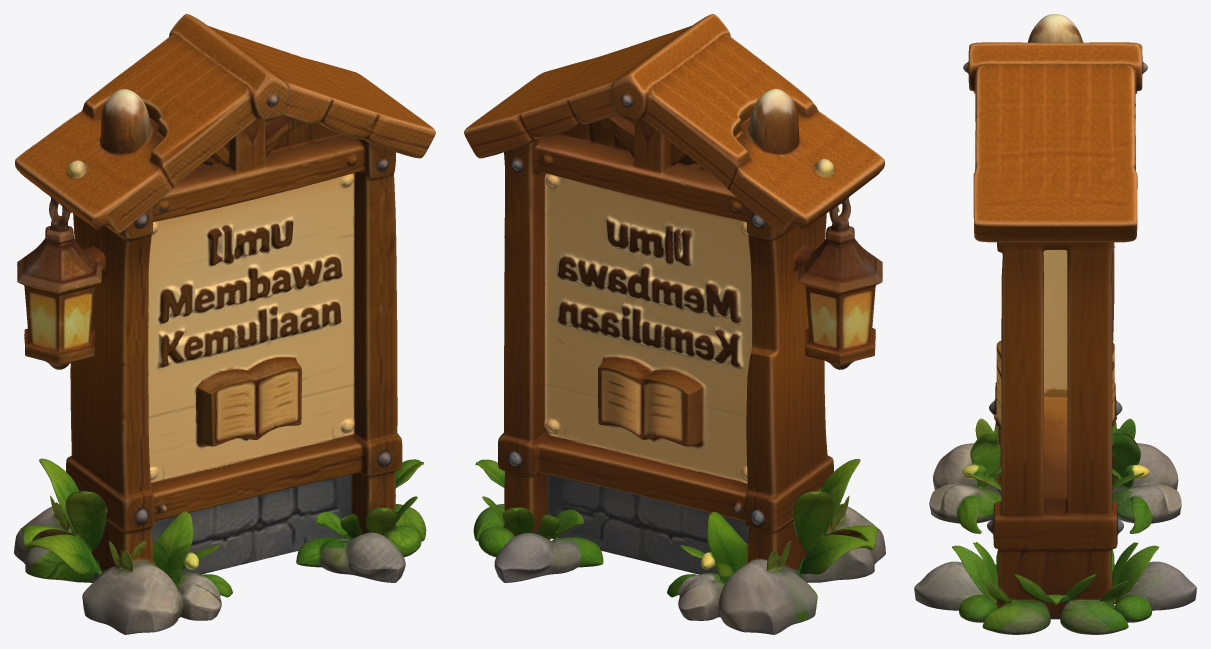
File: knowledge-statue.glb
The picture shows the model from 3 angles, left to right: view 1: azimuth 30°, elevation 25°; view 2: azimuth 150°, elevation 25°; view 3: azimuth 270°, elevation 25°; orthographic projection.
Bounding box in the file's own units: 1.57 × 1.9 × 0.9486.
Materials: 1 (1 with a texture image).
